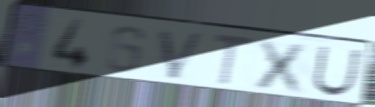4: (48, 16, 92, 73)
6: (104, 24, 146, 75)
T: (211, 31, 257, 88)
U: (310, 44, 365, 98)
V: (156, 27, 209, 82)
X: (251, 37, 315, 96)
